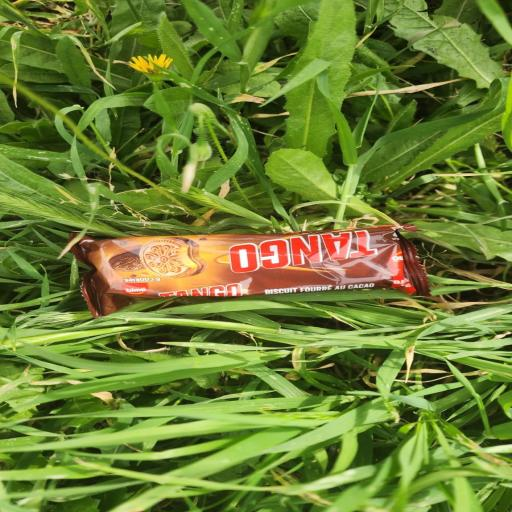tango: (51, 170, 467, 365)
